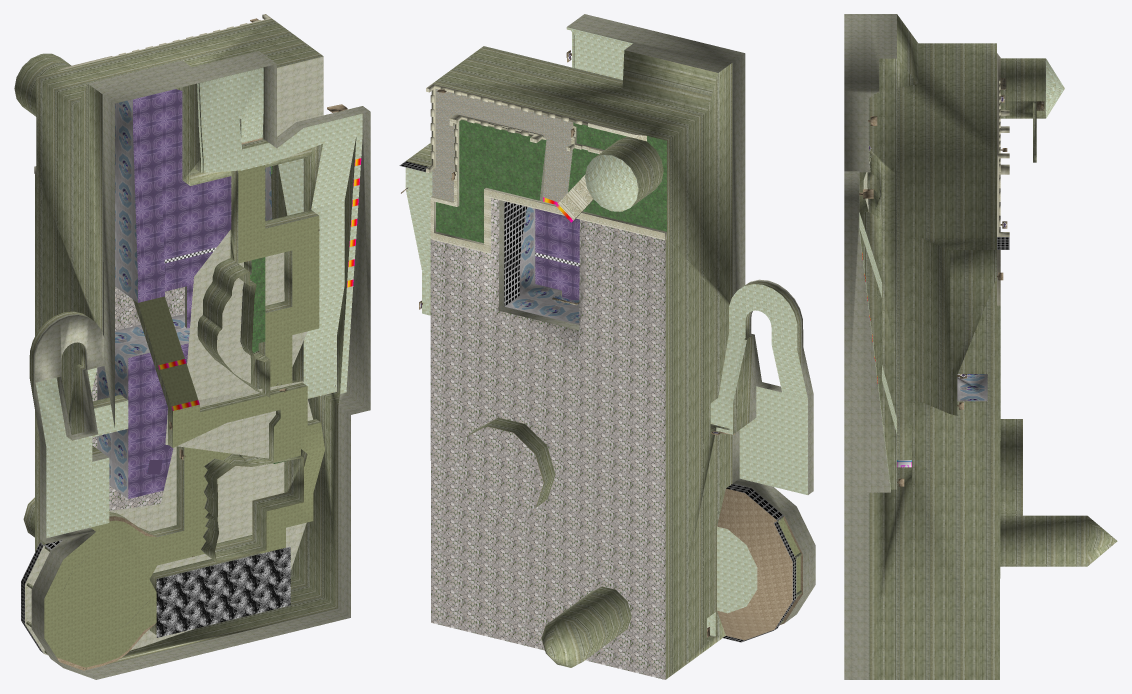
3 renders of one model, left to right at view 1: azimuth 30°, elevation 25°; view 2: azimuth 150°, elevation 25°; view 3: azimuth 270°, elevation 25°, orthographic. The views are drawn at different scales.
Parts seen in each view (by area): view 1: dt_SKP__wall1, dt_SKP__wall2, dt_SKP__road1, dt_SKP__rock1, dt_SKP__road33, dt_SKP__wall6, dt_SKP__Water, dt_SKP__top, dt_SKP__towerwallOUT, dt_SKP__wiese, dt_SKP__drivable_ceil, dt_SKP__boost (+1 smaller); view 2: dt_SKP__top, dt_SKP__wall1, dt_SKP__rock1, dt_SKP__wall2, dt_SKP__wiese, dt_SKP__drivable_ceil, dt_SKP__toproad, dt_SKP__towerroad, dt_SKP__road33, dt_SKP__topwall, dt_SKP__gitter_cn, dt_SKP__wall6 (+1 smaller); view 3: dt_SKP__wall1, dt_SKP__wall2, dt_SKP__towerwallOUT, dt_SKP__rock1, dt_SKP__topwall, dt_SKP__wall6, dt_SKP__drivable_ceil.
Boxes of the visible parts, x1,y1,x2,y2 form: dt_SKP__wall1: (23, 19, 356, 669); dt_SKP__wall2: (25, 51, 370, 679); dt_SKP__road1: (44, 165, 324, 667); dt_SKP__rock1: (35, 67, 362, 538); dt_SKP__road33: (128, 89, 231, 498); dt_SKP__wall6: (97, 89, 272, 498); dt_SKP__Water: (156, 546, 290, 637); dt_SKP__top: (91, 286, 184, 510); dt_SKP__towerwallOUT: (14, 53, 71, 116); dt_SKP__wiese: (250, 166, 287, 463); dt_SKP__drivable_ceil: (56, 18, 347, 670); dt_SKP__boost: (158, 158, 361, 410); dt_SKP__top: (430, 198, 665, 679); dt_SKP__wall1: (406, 33, 801, 679); dt_SKP__rock1: (405, 27, 807, 636); dt_SKP__wall2: (498, 14, 815, 622); dt_SKP__wiese: (436, 119, 666, 243); dt_SKP__drivable_ceil: (401, 50, 802, 640); dt_SKP__toproad: (432, 89, 573, 202); dt_SKP__towerroad: (426, 88, 664, 253); dt_SKP__road33: (535, 208, 579, 300); dt_SKP__topwall: (426, 83, 666, 244); dt_SKP__gitter_cn: (399, 161, 796, 642); dt_SKP__wall6: (505, 207, 579, 324); dt_SKP__wall1: (859, 14, 1117, 679); dt_SKP__wall2: (844, 14, 896, 679); dt_SKP__towerwallOUT: (1000, 58, 1045, 162); dt_SKP__rock1: (859, 59, 1064, 490); dt_SKP__topwall: (997, 53, 1009, 305); dt_SKP__wall6: (957, 374, 987, 401); dt_SKP__drivable_ceil: (859, 95, 1007, 486).
Bounding box in the file's own units: 50809 × 82234 × 36772.
Materials: 23 (23 with a texture image).
